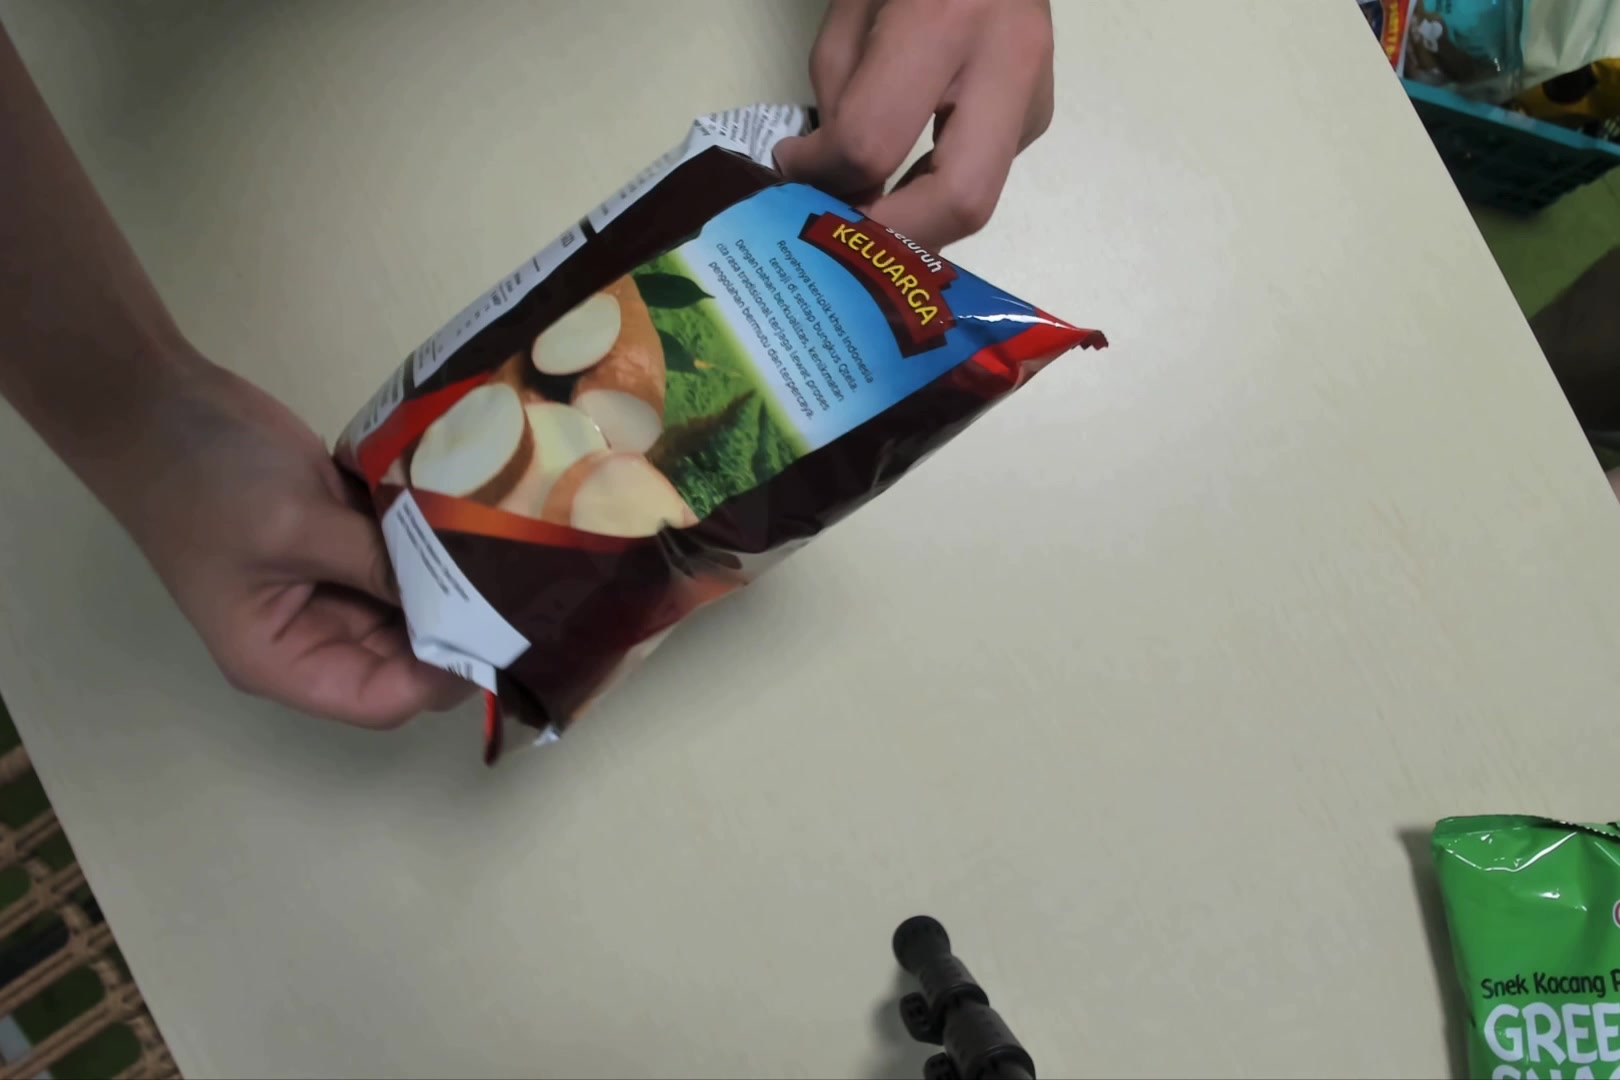PotatoChipsKeropok_0-99g_Halal_NonHealthy: (324, 102, 1108, 747)
